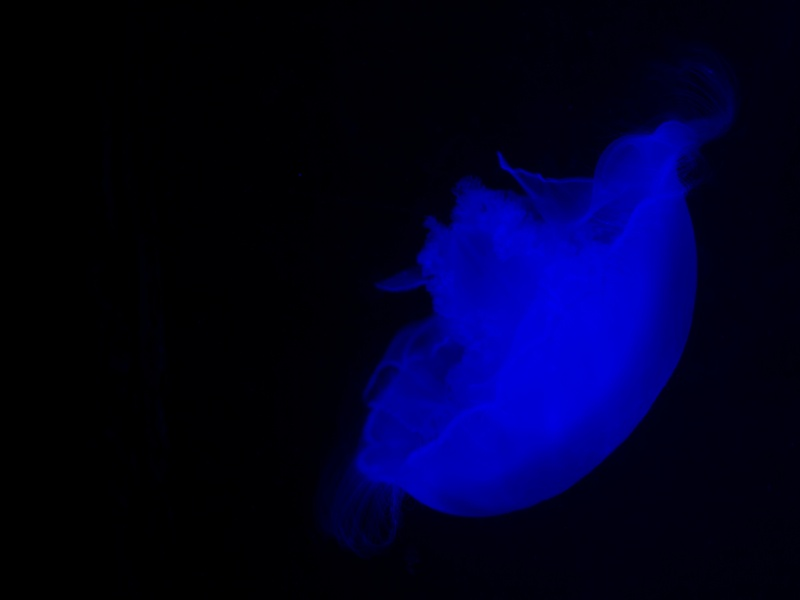Jellyfish: (322, 57, 737, 558)
